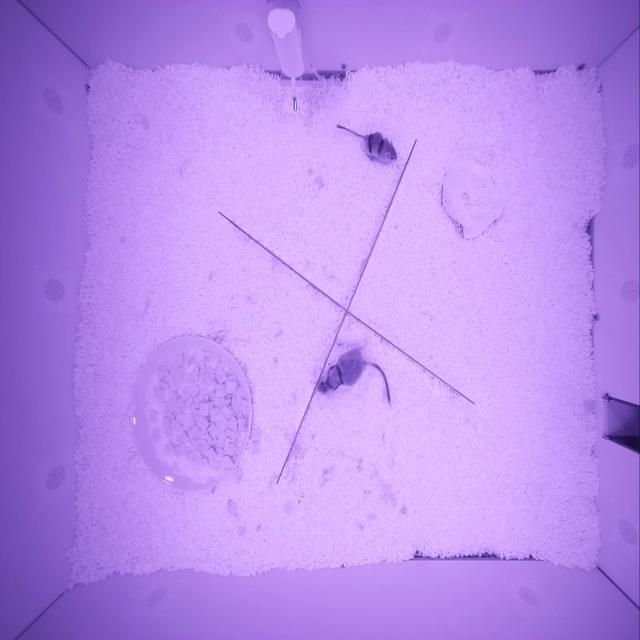adult_front: (317, 349, 365, 393)
pup_h_stripe: (365, 133, 397, 161)
